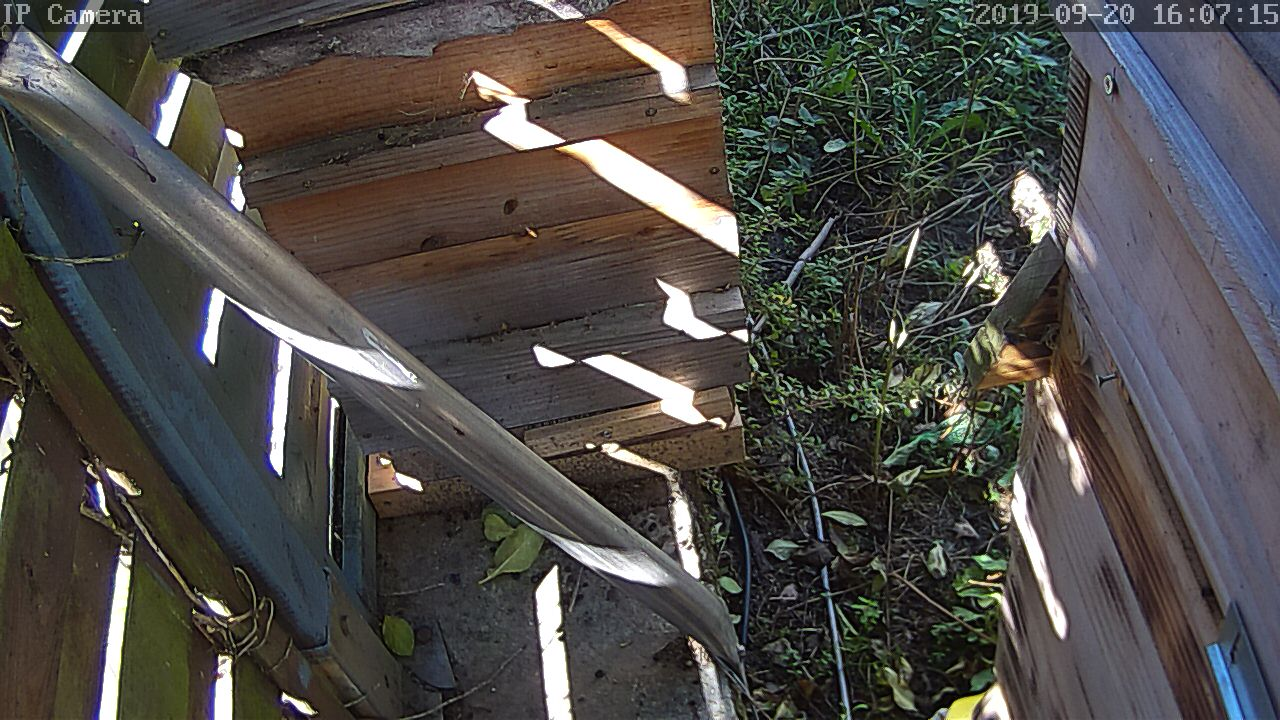hornet: (9, 3, 1244, 720)
